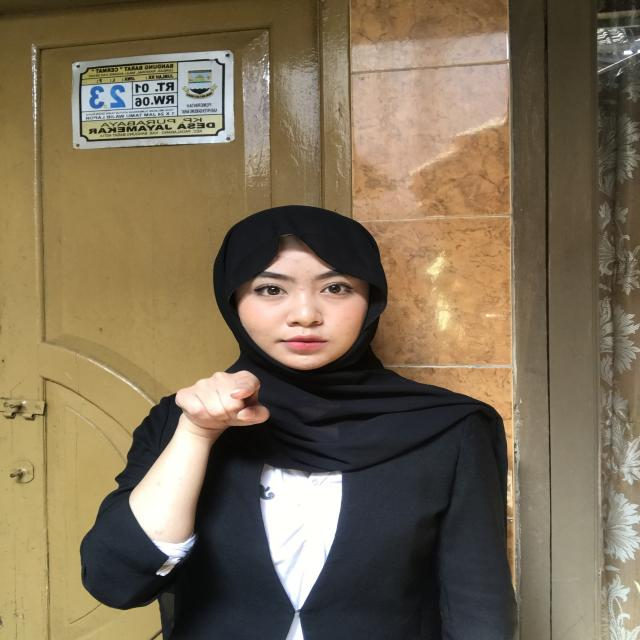kamu: (105, 344, 301, 454)
